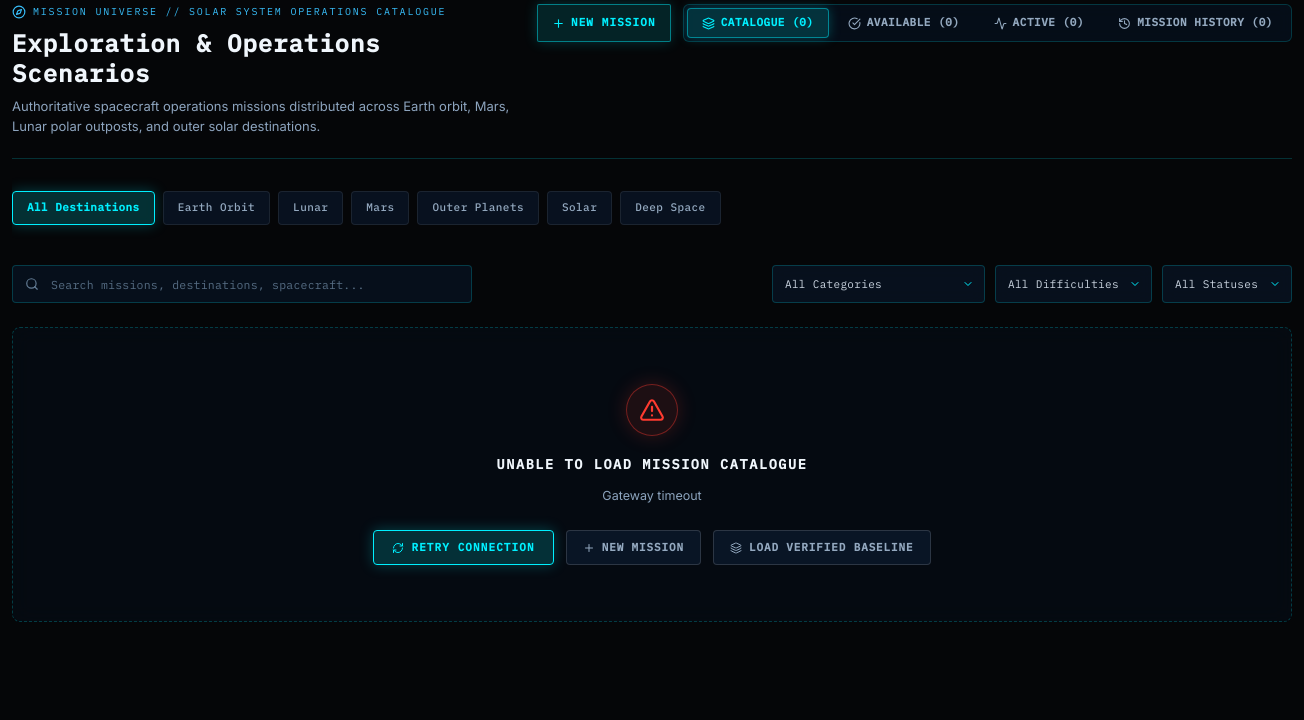
Test case: ASTRA Mission Control Operations Console › displays error empty state and retries connection on API failure
Check: the element with test id "missions-error-state" is shown, box [12,327,1292,622]
Check: the heading "UNABLE TO LOAD MISSION CATALOGUE" is shown, box [496,454,808,476]
Click the button with test id "missions-retry-btn" at (464, 548), box [374,530,554,566]
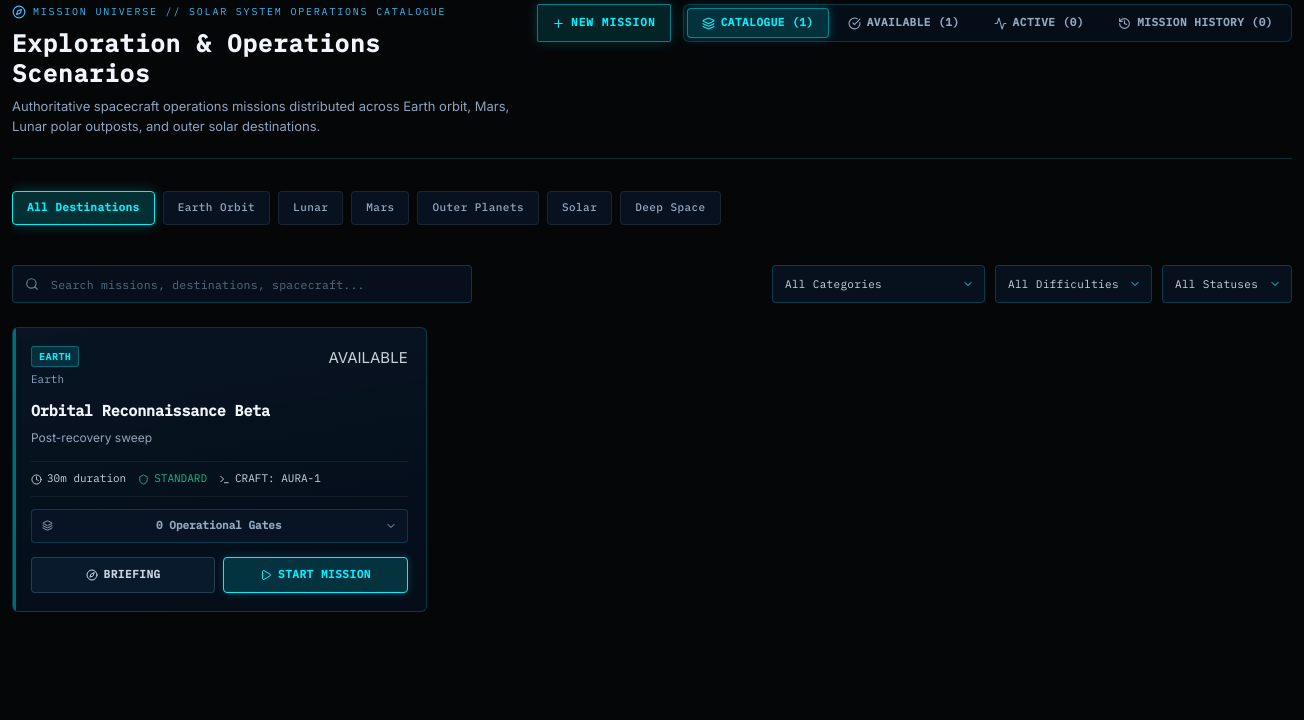
Check: the heading "Orbital Reconnaissance Beta" is shown, box [31,401,270,420]
